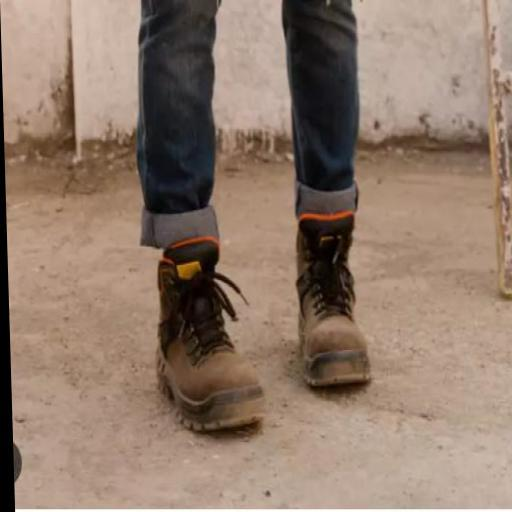safety_boots: (131, 248, 283, 432), (283, 220, 394, 390)
